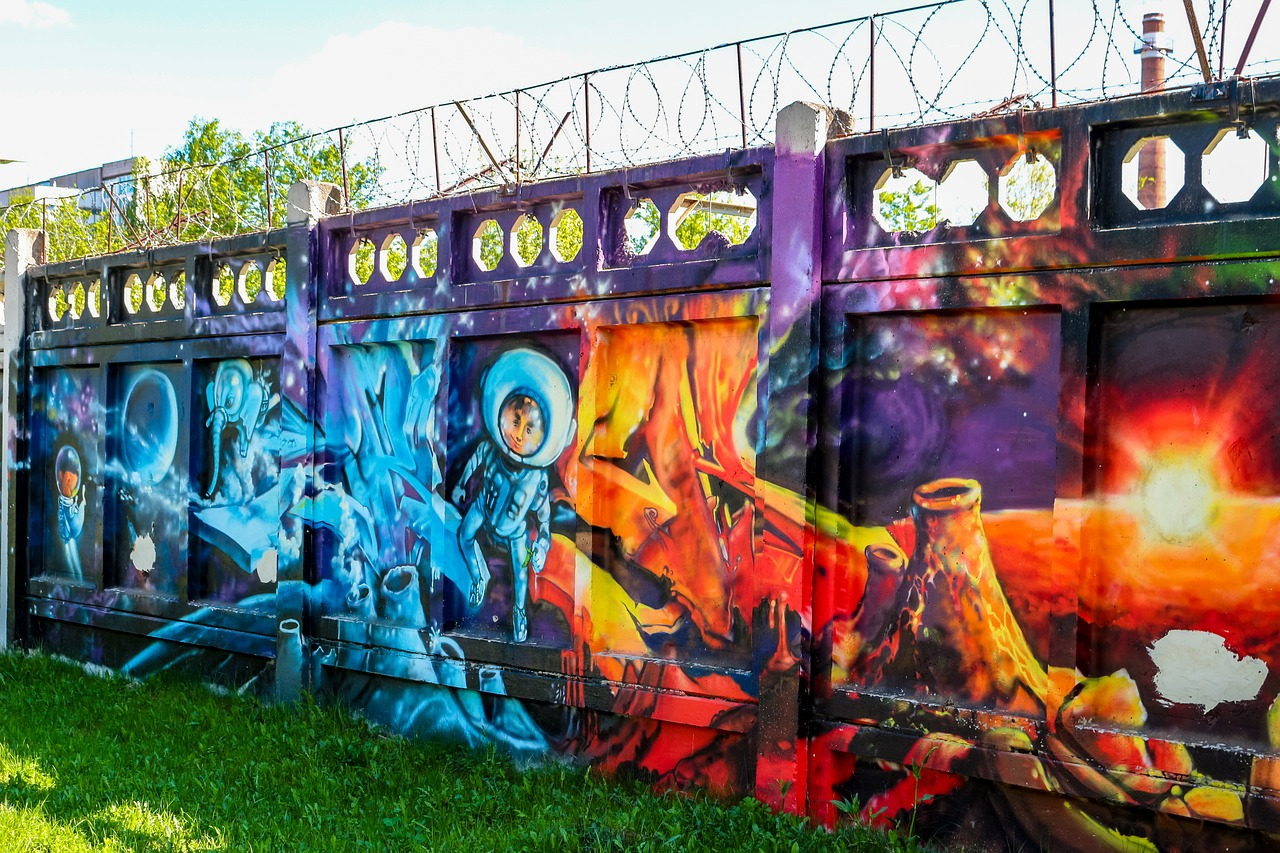graphite: (584, 334, 1280, 832), (44, 351, 573, 768)
